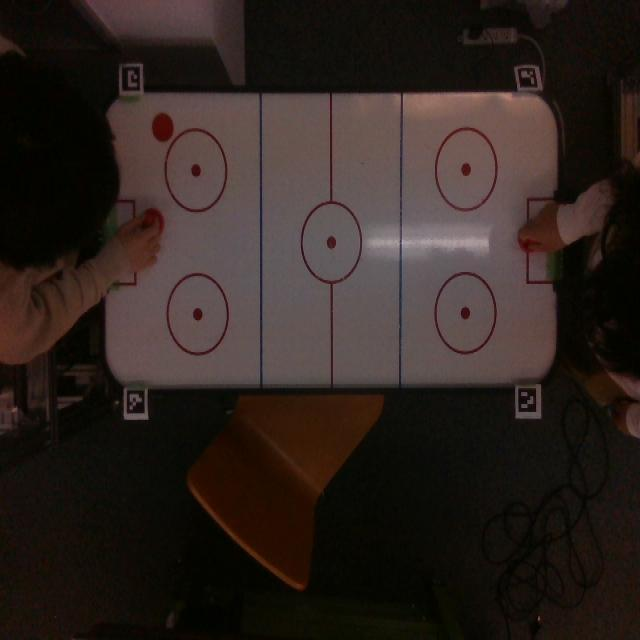puck: (152, 114, 174, 142)
